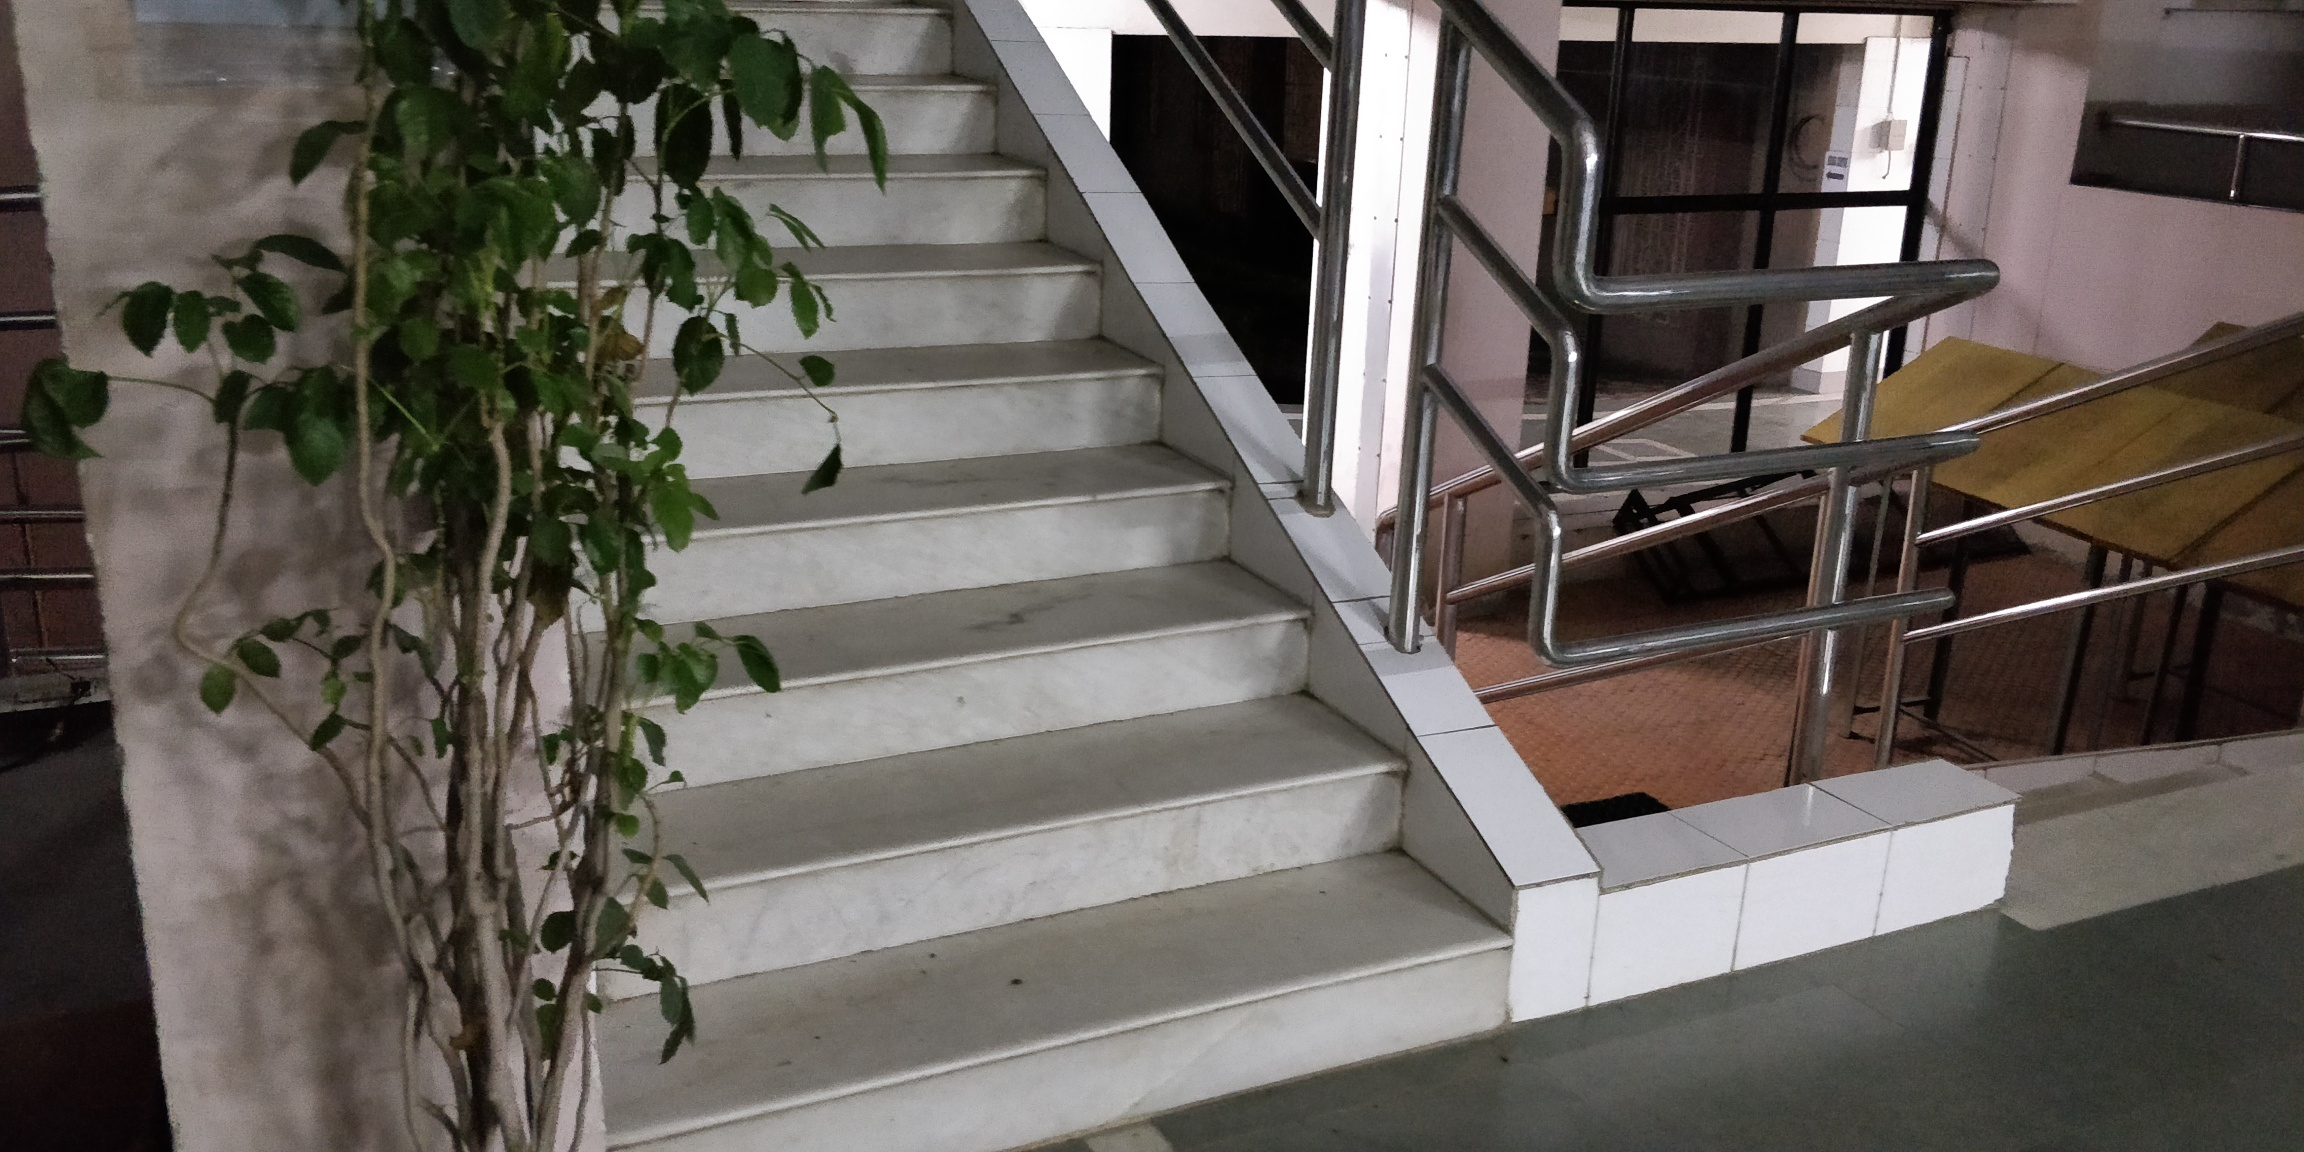stairs_up: (510, 26, 1511, 1139)
